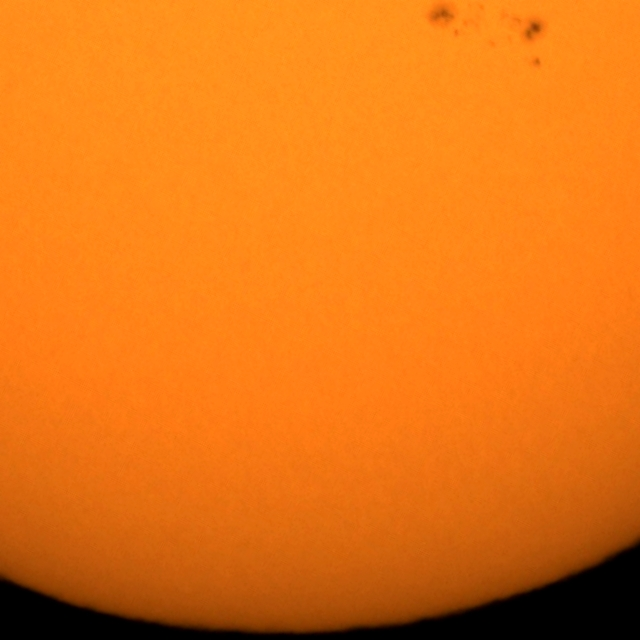sunspot: (426, 5, 464, 39), (510, 14, 545, 44), (530, 56, 542, 70)
